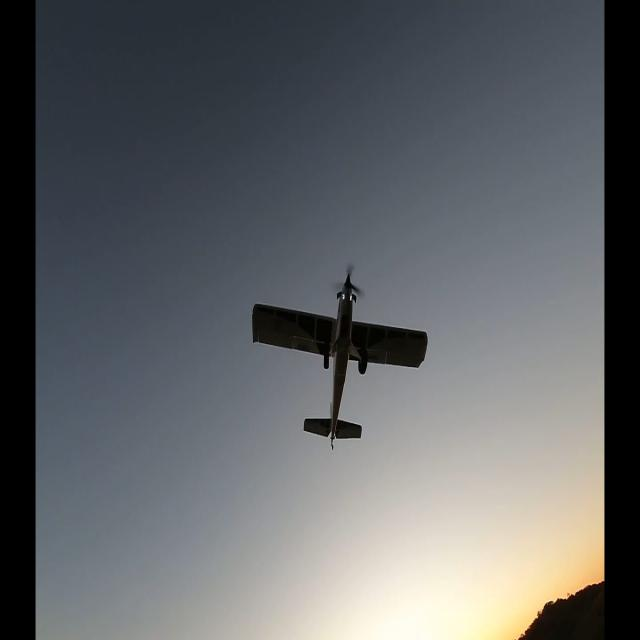iha: (250, 260, 429, 453)
